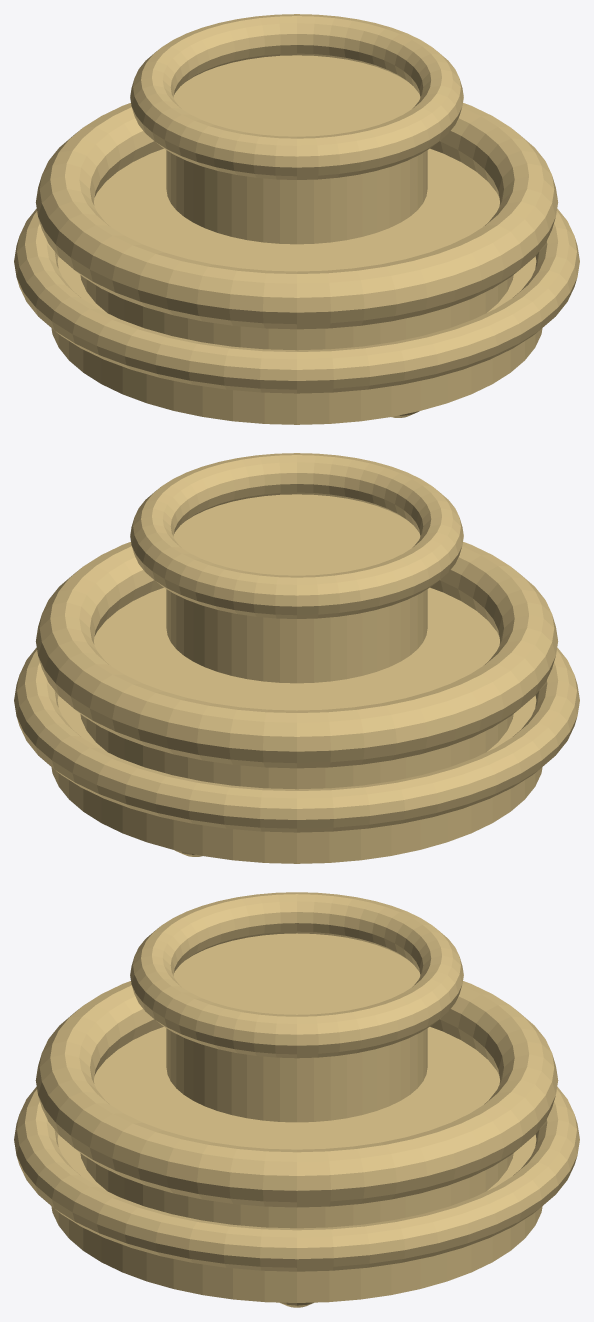
File: tarot_crystal_base.glb
3 views of the same model, one above another, from view 1: azimuth 30°, elevation 25°; view 2: azimuth 150°, elevation 25°; view 3: azimuth 270°, elevation 25° (orthographic).
Parts seen in each view (by area): view 1: tarot_crystal_base; view 2: tarot_crystal_base; view 3: tarot_crystal_base.
Part boxes in pixels (x1,y1,x2,y2): tarot_crystal_base: (14, 14, 579, 424); tarot_crystal_base: (14, 453, 579, 863); tarot_crystal_base: (14, 892, 579, 1307).
Size of the model in its own units: 0.39 by 0.2 by 0.39.
